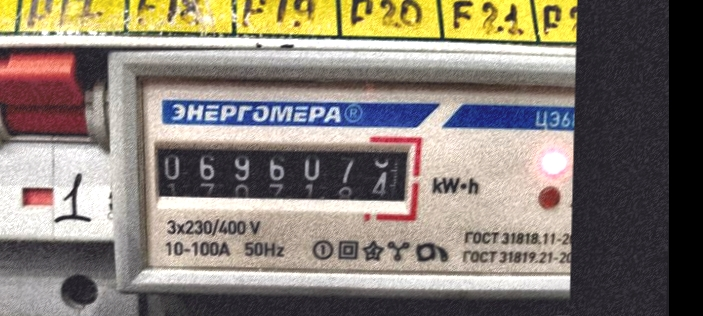0: (161, 151, 182, 181), (302, 151, 322, 182)
4: (369, 169, 388, 197)
6: (195, 151, 218, 181), (267, 152, 287, 181)
7: (337, 153, 355, 183)
9: (232, 152, 251, 182)
screen: (136, 123, 423, 220)
